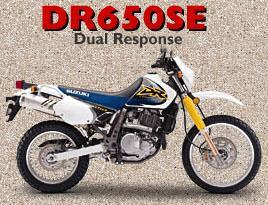motorcycle: (3, 40, 268, 200)
